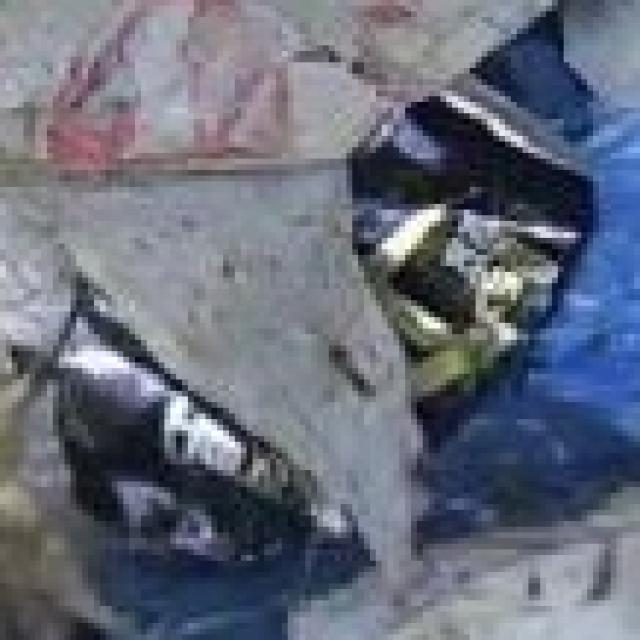litter: (21, 37, 627, 638)
